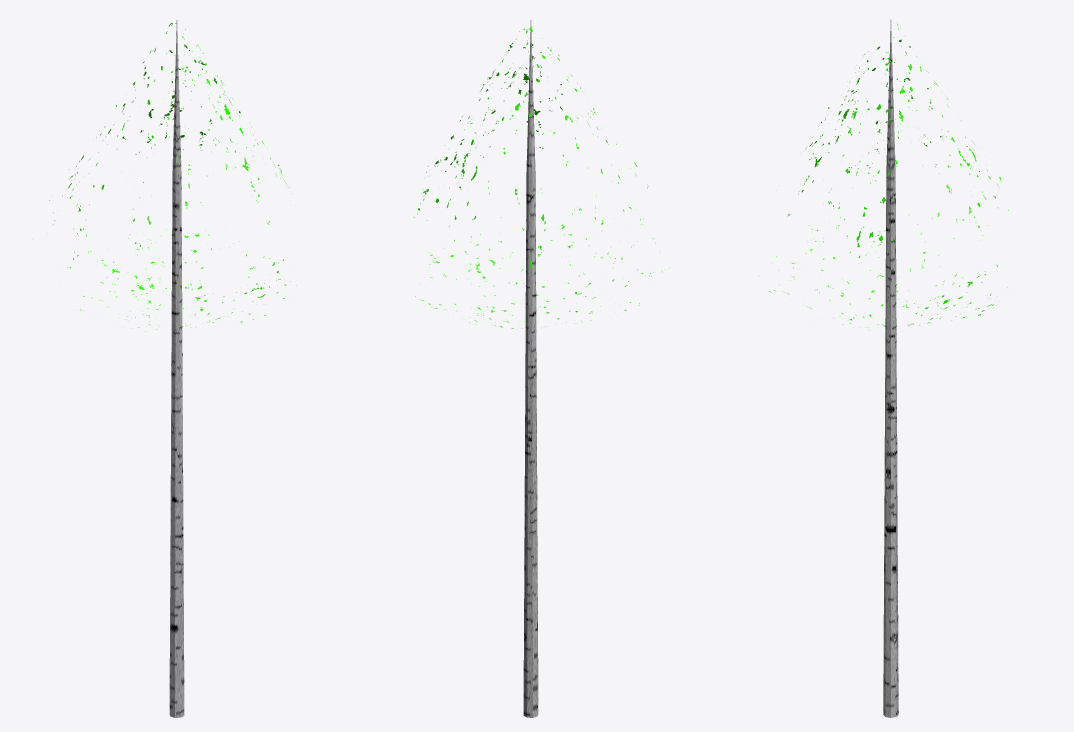
File: pinheiroBrancomenos.fbx
3 renders of one model, left to right at view 1: azimuth 30°, elevation 25°; view 2: azimuth 150°, elevation 25°; view 3: azimuth 270°, elevation 25°, orthographic.
Visible parts, largest first — view 1: pinheirobrancomenor; view 2: pinheirobrancomenor; view 3: pinheirobrancomenor.
Part boxes in pixels (box(x1,y1,x2,y2)): pinheirobrancomenor: box(49, 20, 296, 717); pinheirobrancomenor: box(414, 20, 662, 717); pinheirobrancomenor: box(758, 20, 1008, 717).
Bounding box in the file's own units: 1309 × 3000 × 1309.
1 material, 1 textured.
